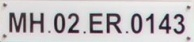character: (105, 11, 122, 35), (8, 11, 26, 33), (29, 12, 45, 33), (89, 11, 104, 33), (172, 11, 185, 34), (130, 12, 143, 34), (158, 12, 171, 34), (53, 12, 65, 33), (67, 12, 79, 33), (145, 11, 155, 33)
